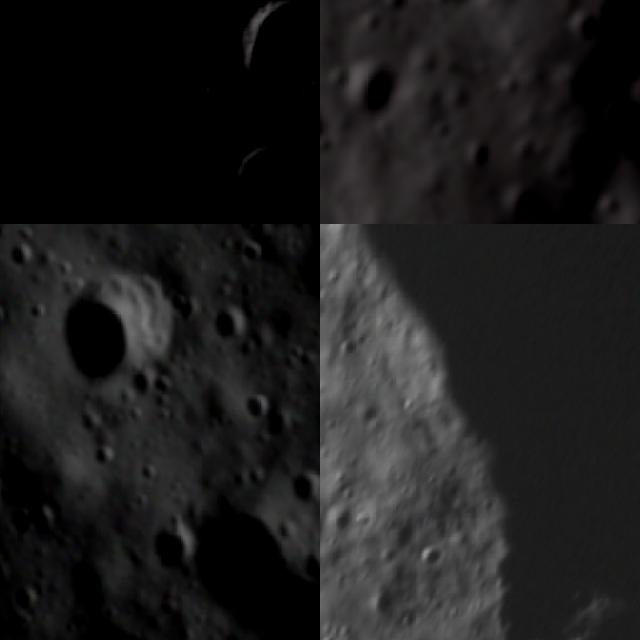crater: (53, 271, 184, 392), (192, 490, 316, 616), (207, 0, 320, 125), (202, 127, 320, 224), (341, 48, 412, 125), (147, 512, 196, 578), (68, 559, 115, 613), (293, 224, 320, 301), (561, 2, 607, 47), (210, 300, 256, 344), (455, 135, 497, 183), (418, 0, 500, 21), (289, 464, 320, 513), (5, 506, 41, 546), (234, 384, 271, 422), (320, 92, 337, 174), (4, 238, 39, 276), (548, 622, 619, 640), (24, 503, 59, 538), (10, 582, 42, 618), (167, 291, 198, 327), (126, 367, 157, 402), (91, 437, 117, 474), (410, 540, 442, 567), (132, 459, 162, 487), (238, 238, 265, 268), (22, 298, 48, 328), (152, 370, 176, 399), (360, 11, 385, 38), (245, 460, 269, 488), (329, 336, 358, 358), (627, 70, 640, 118), (229, 224, 260, 237), (0, 297, 9, 334), (368, 0, 397, 7)
